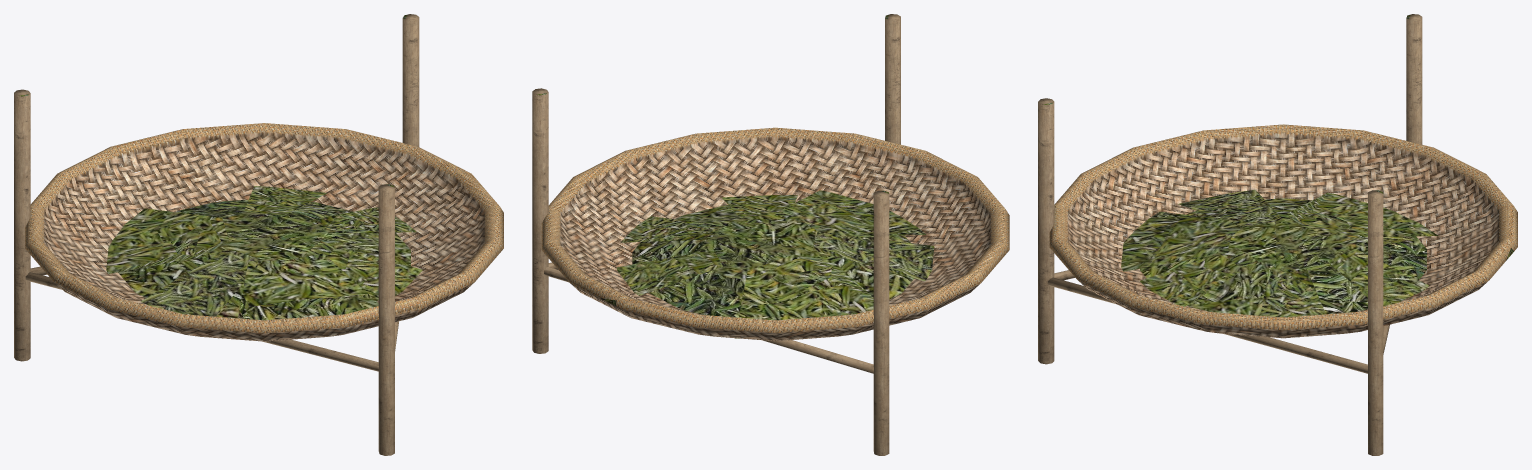
Rendered from Basin_5.FBX.
3 views of the same model, side by side, from view 1: azimuth 30°, elevation 25°; view 2: azimuth 150°, elevation 25°; view 3: azimuth 270°, elevation 25° (orthographic). The views are drawn at different scales.
Parts seen in each view (by area): view 1: Basin_5; view 2: Basin_5; view 3: Basin_5.
Part boxes in pixels (left/top/right/bottom): Basin_5: left=14, top=14, right=503, bottom=455; Basin_5: left=532, top=14, right=1009, bottom=455; Basin_5: left=1038, top=14, right=1517, bottom=455.
Size of the model in its own units: 33.55 by 20.16 by 33.83.
